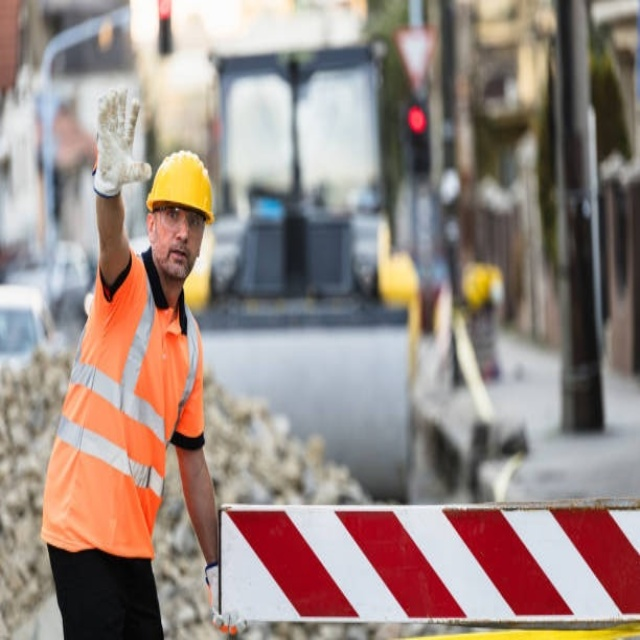Gafas: (152, 205, 207, 233)
Guantes: (93, 86, 152, 199), (204, 562, 242, 636)
Sin_mascara: (166, 245, 193, 273)
